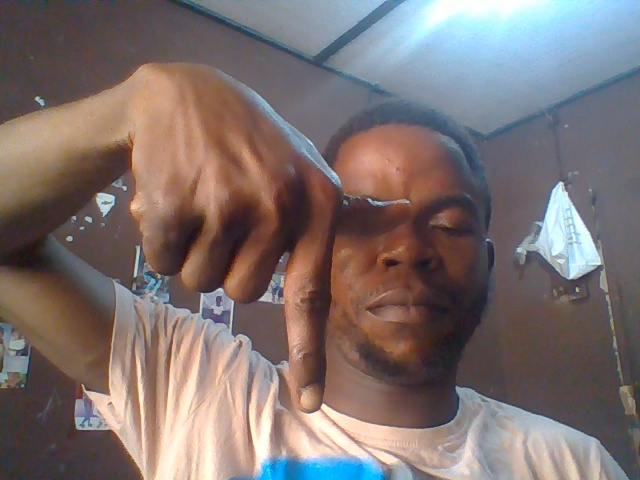Down: (121, 65, 417, 416)
